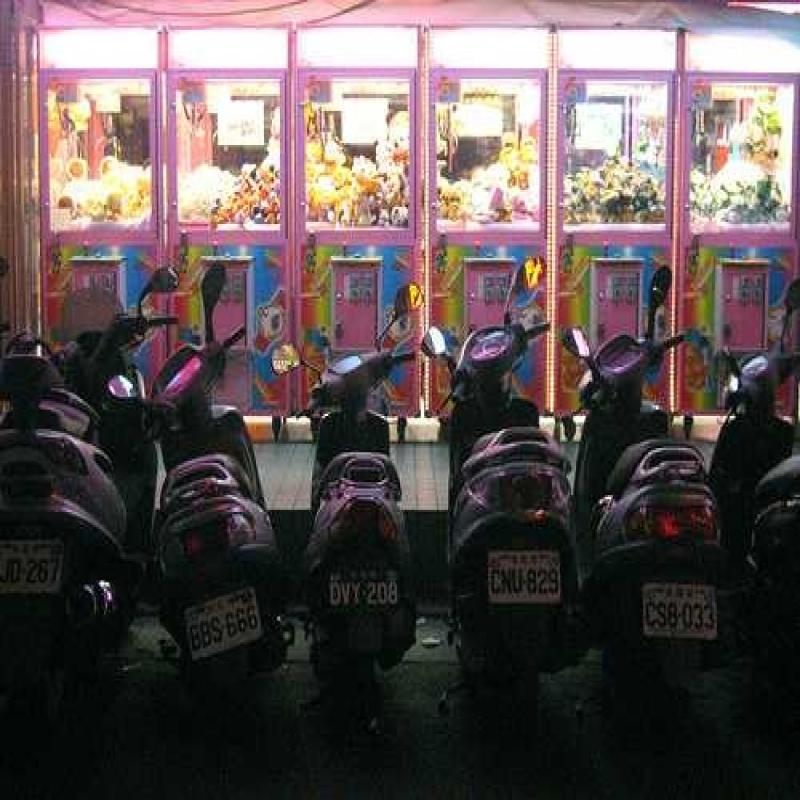bike: (574, 285, 752, 683), (441, 280, 579, 664), (132, 308, 271, 669), (284, 306, 428, 646)
